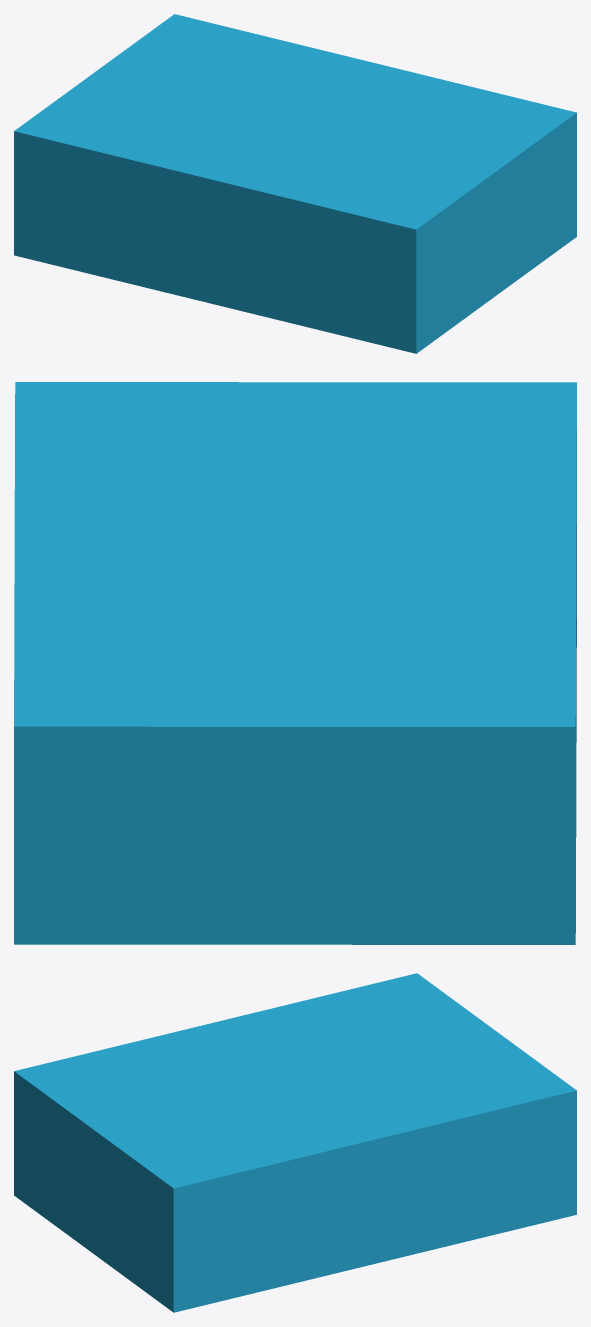
3 views of the same model, one above another, from view 1: azimuth 30°, elevation 25°; view 2: azimuth 150°, elevation 25°; view 3: azimuth 270°, elevation 25° (orthographic). The views are drawn at different scales.
Visible parts, largest first — view 1: Visual_Cube; view 2: Visual_Cube; view 3: Visual_Cube.
Part boxes in pixels (bbox=[...]): Visual_Cube: bbox=[14, 14, 576, 353]; Visual_Cube: bbox=[14, 382, 576, 944]; Visual_Cube: bbox=[14, 973, 576, 1312].
Bounding box in the file's own units: 106 × 28.56 × 117.
